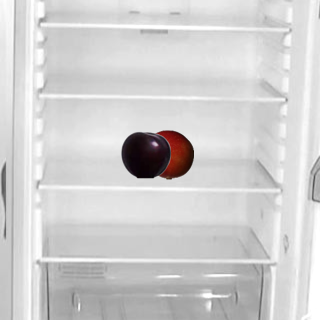Apple Braeburn: (143, 129, 193, 179)
Cherry Wax Black: (120, 129, 170, 179)
